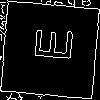E: (25, 24, 73, 63)
